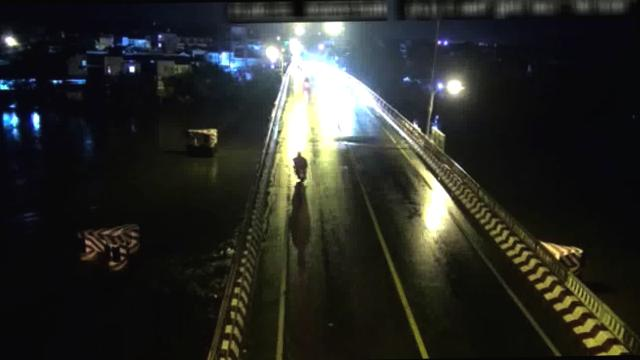Bike: (292, 150, 310, 182), (303, 76, 310, 88)
